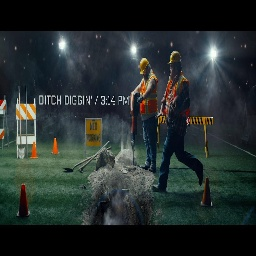helmet: (166, 52, 184, 69), (136, 57, 151, 77)
no-vest: (166, 71, 190, 129), (140, 73, 158, 119)
person: (159, 49, 191, 198), (133, 55, 161, 171)
